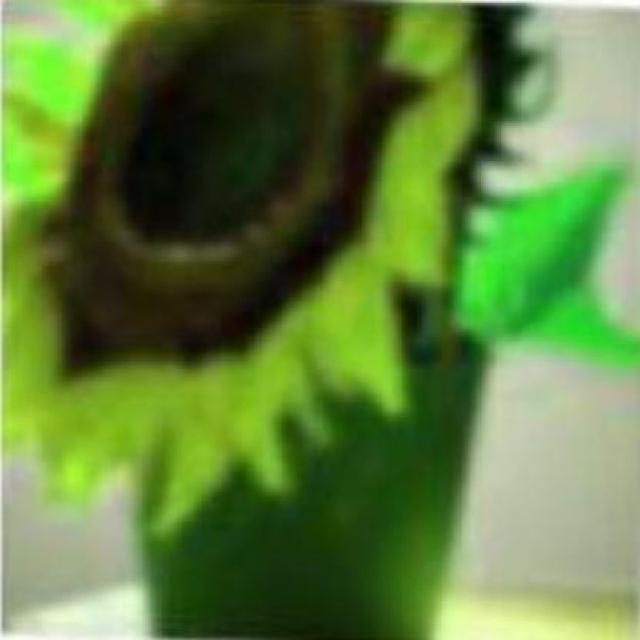sunflower: (0, 0, 486, 543)
